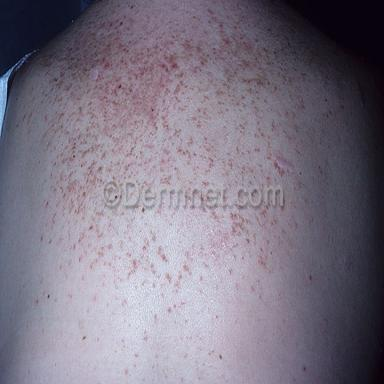Darier_s-Disease: (29, 0, 349, 319)
